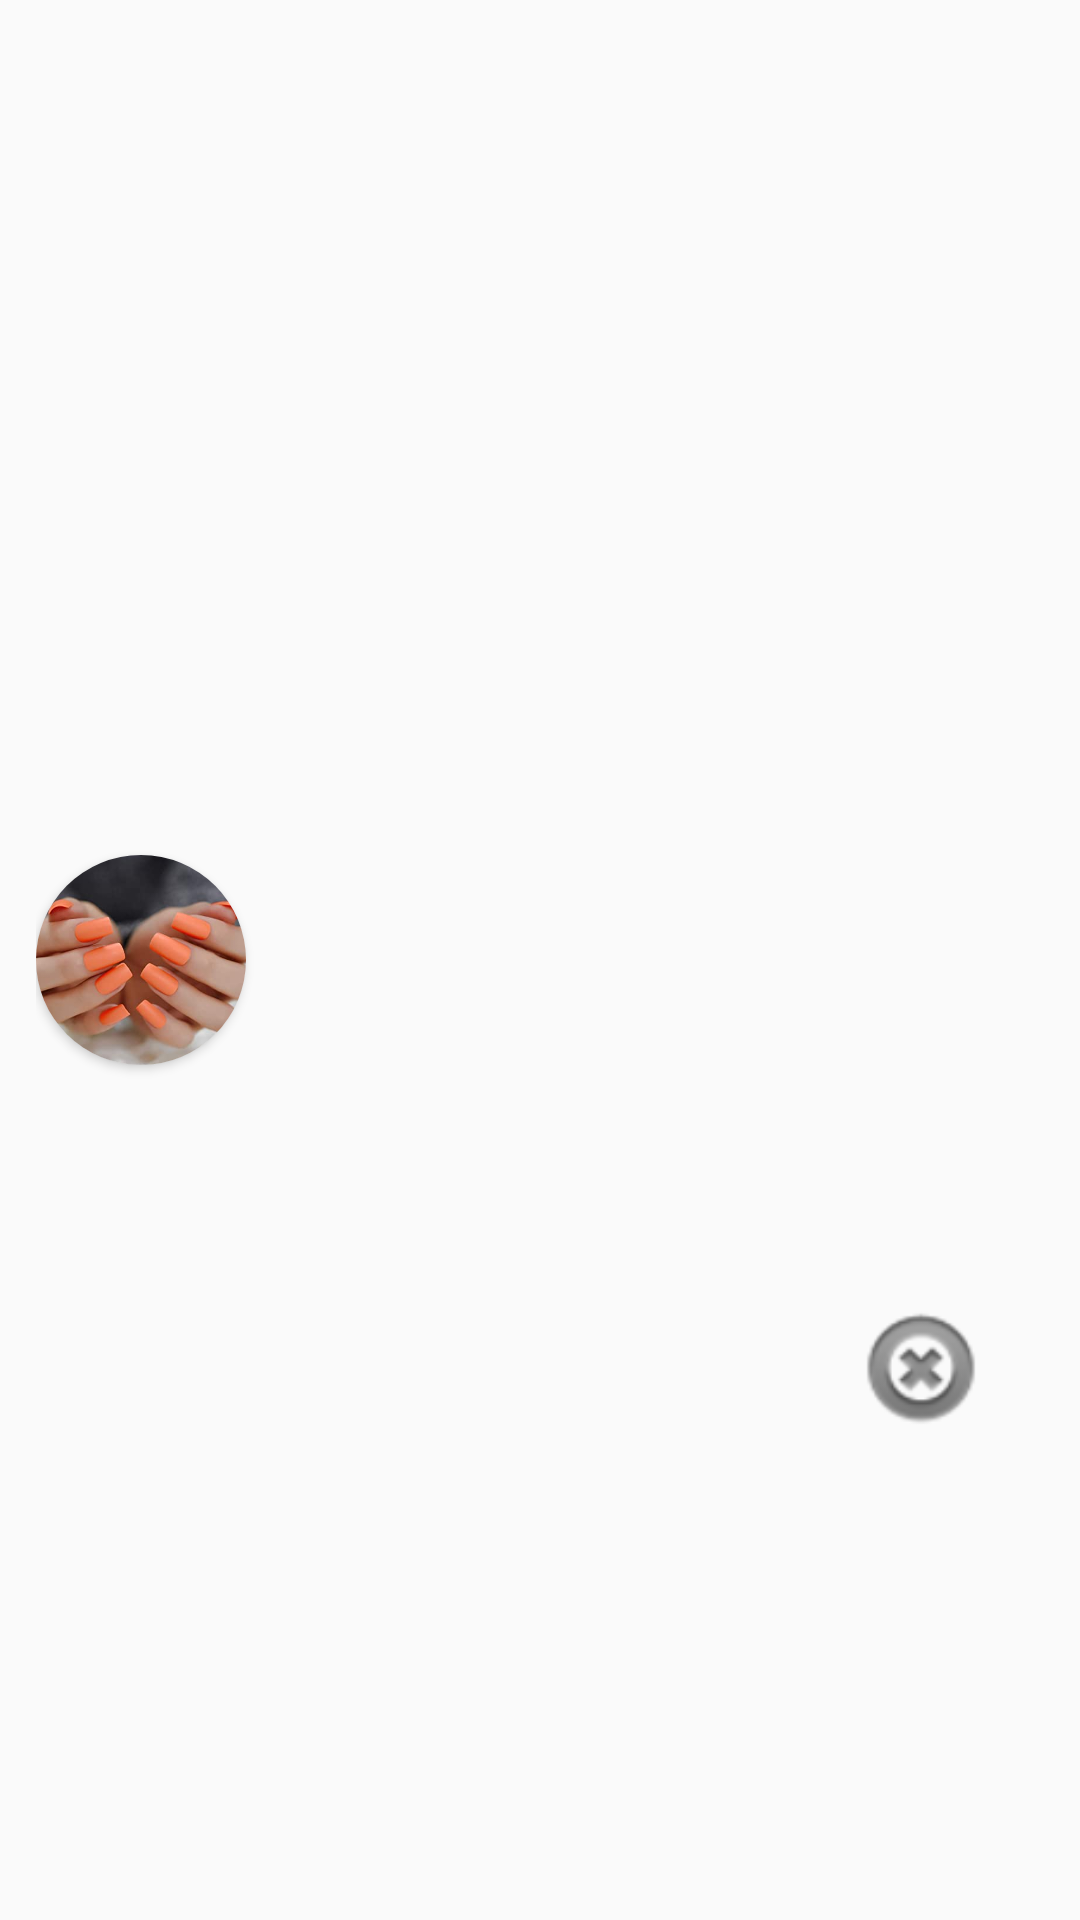

Point at icon controls on the screen. Image size 1080px x 1920px, points as point (x, y).
notification clear all: point (921, 1368)
